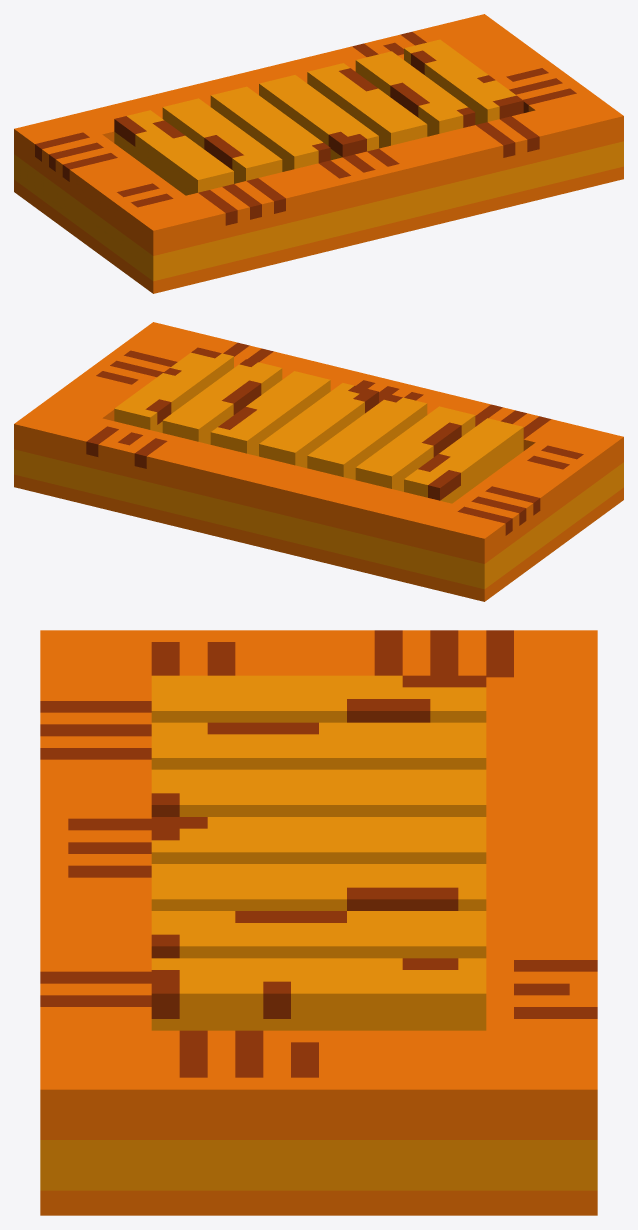
The model's file is ApplePie.obj.
3 renders of one model, top to bottom at view 1: azimuth 30°, elevation 25°; view 2: azimuth 150°, elevation 25°; view 3: azimuth 270°, elevation 25°, orthographic. The views are drawn at different scales.
Visible parts, largest first — view 1: ApplePie; view 2: ApplePie; view 3: ApplePie.
Boxes of the visible parts, x1,y1,x2,y2 form: ApplePie: (14,14,623,293); ApplePie: (14,322,623,601); ApplePie: (40,630,597,1215).
Size of the model in its own units: 39 by 6 by 20.
1 material, 1 textured.
